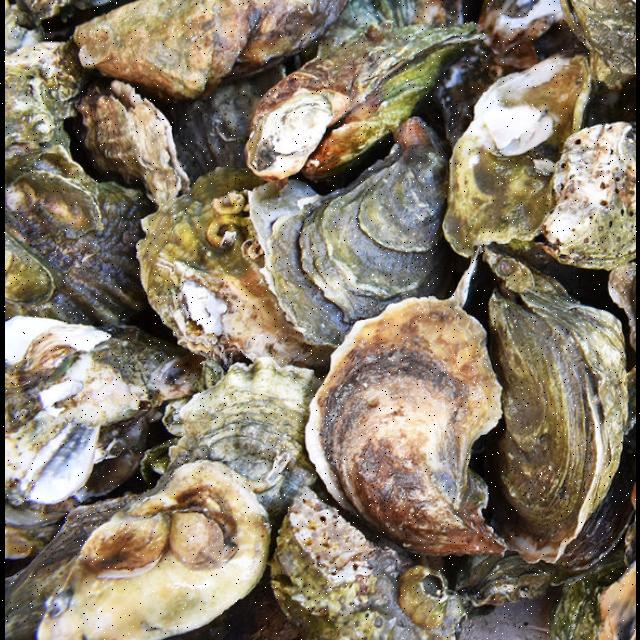Oyster-Closed: (304, 296, 505, 557), (249, 119, 458, 347), (480, 249, 627, 563), (135, 169, 336, 378), (37, 461, 271, 639), (244, 20, 488, 182), (4, 315, 202, 504), (4, 124, 155, 327), (162, 357, 331, 538), (441, 54, 591, 256), (271, 489, 468, 639), (71, 0, 268, 103), (539, 122, 634, 271), (226, 0, 352, 82), (4, 39, 90, 159), (559, 0, 634, 98), (77, 513, 169, 580), (6, 172, 101, 236), (4, 215, 58, 306), (169, 507, 236, 571)
Oyster-Open: (147, 57, 299, 190), (68, 83, 188, 207)
